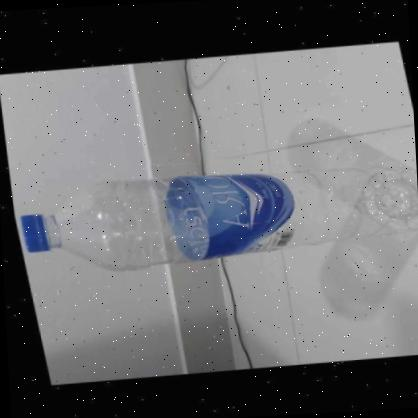bottle: (19, 160, 416, 277)
cap: (20, 206, 52, 255)
label: (168, 171, 297, 262)
